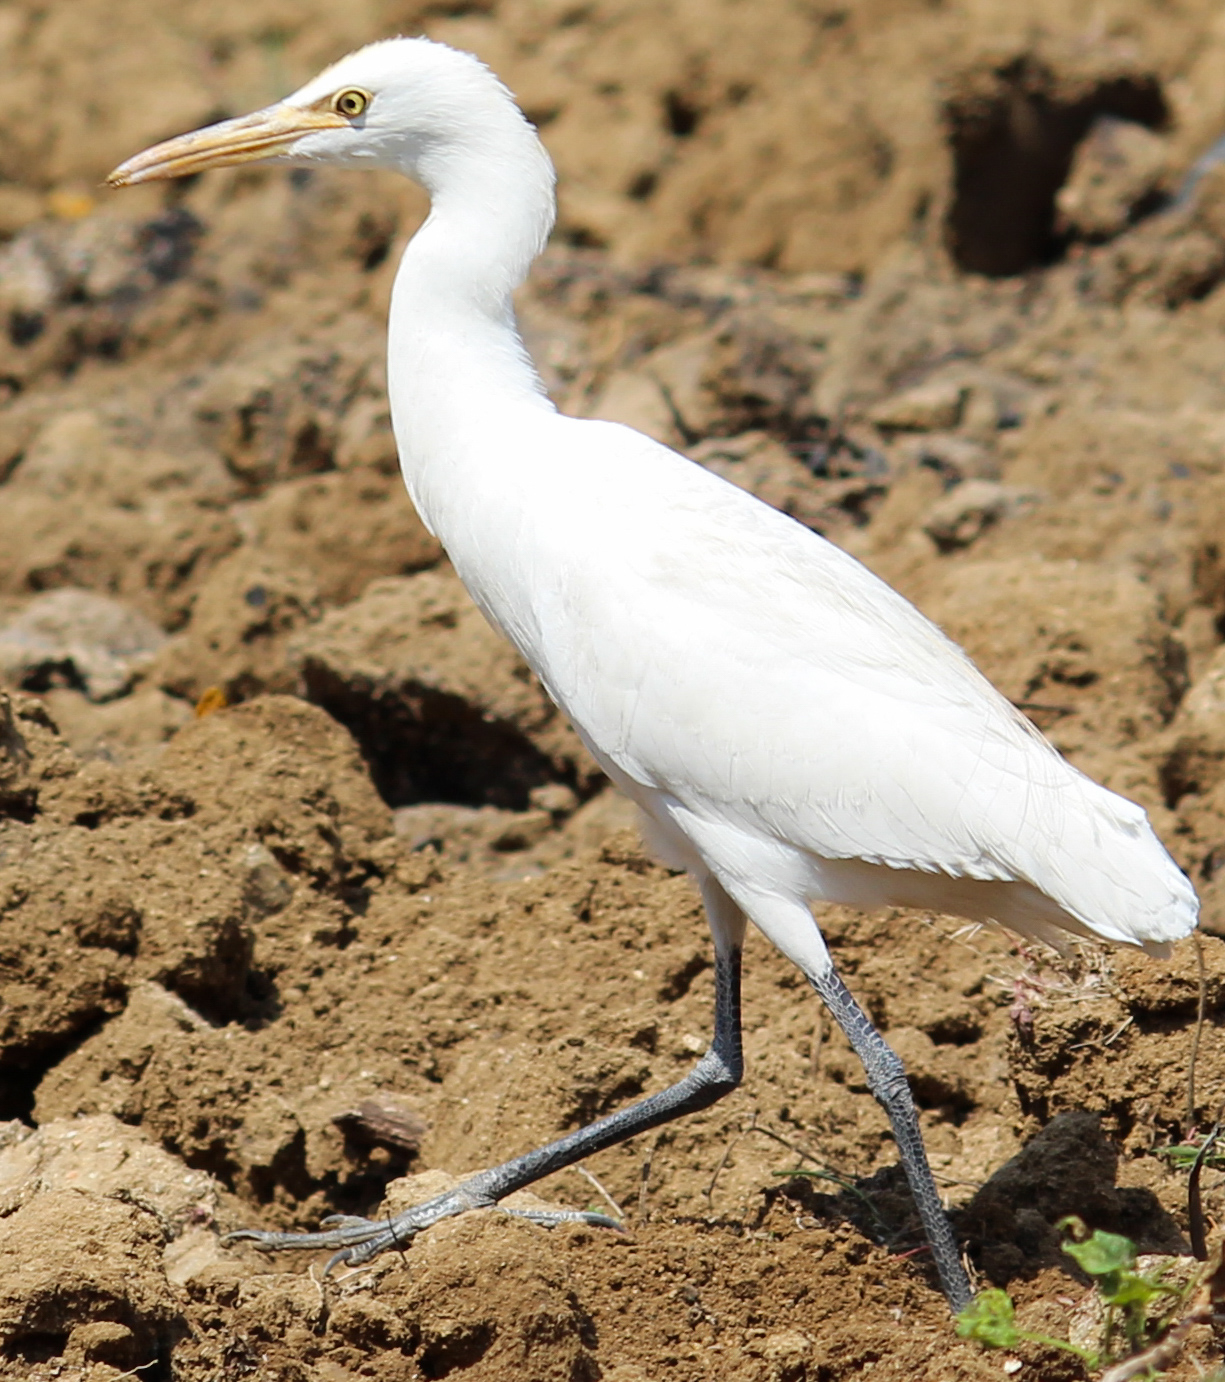bird: (79, 17, 1205, 1338)
